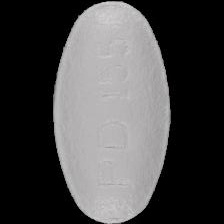0591-3774: (0, 0, 224, 224)
